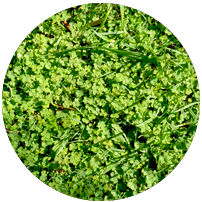oxalis: (34, 36, 166, 165)
